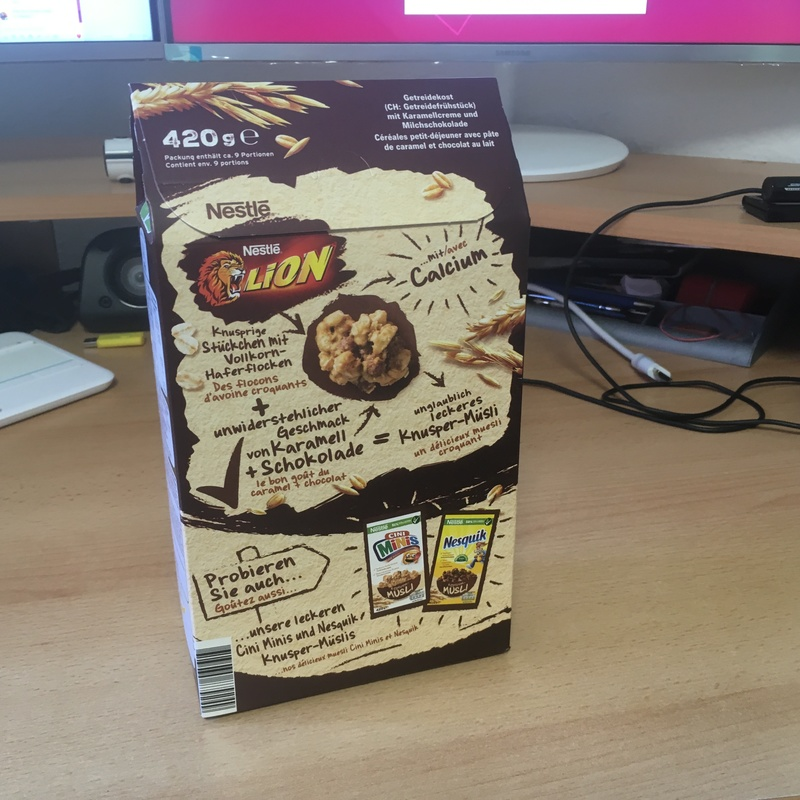cereals: (126, 79, 530, 718)
